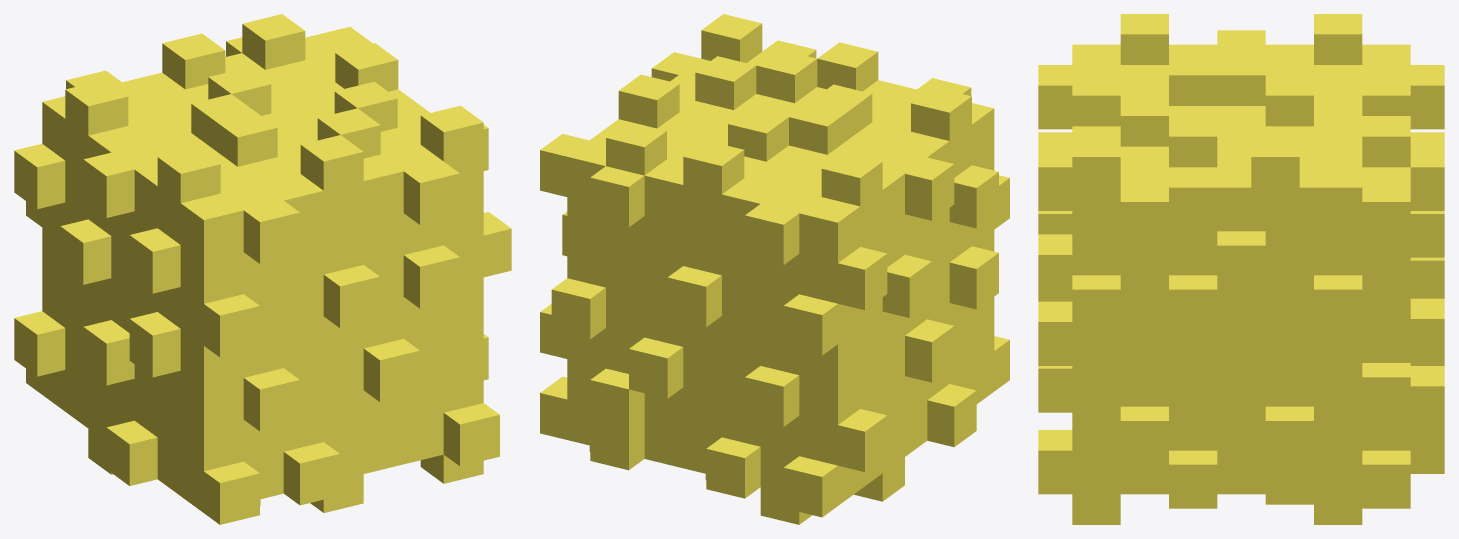
File: Sulfur.fbx
The picture shows the model from 3 angles, left to right: view 1: azimuth 30°, elevation 25°; view 2: azimuth 150°, elevation 25°; view 3: azimuth 270°, elevation 25°; orthographic projection. The views are drawn at different scales.
Parts seen in each view (by area): view 1: Mesh; view 2: Mesh; view 3: Mesh.
Boxes of the visible parts, bbox=[...] form: Mesh: bbox=[14, 14, 511, 524]; Mesh: bbox=[540, 14, 1009, 524]; Mesh: bbox=[1038, 14, 1444, 524].
Size of the model in its own units: 240 by 240 by 240.
